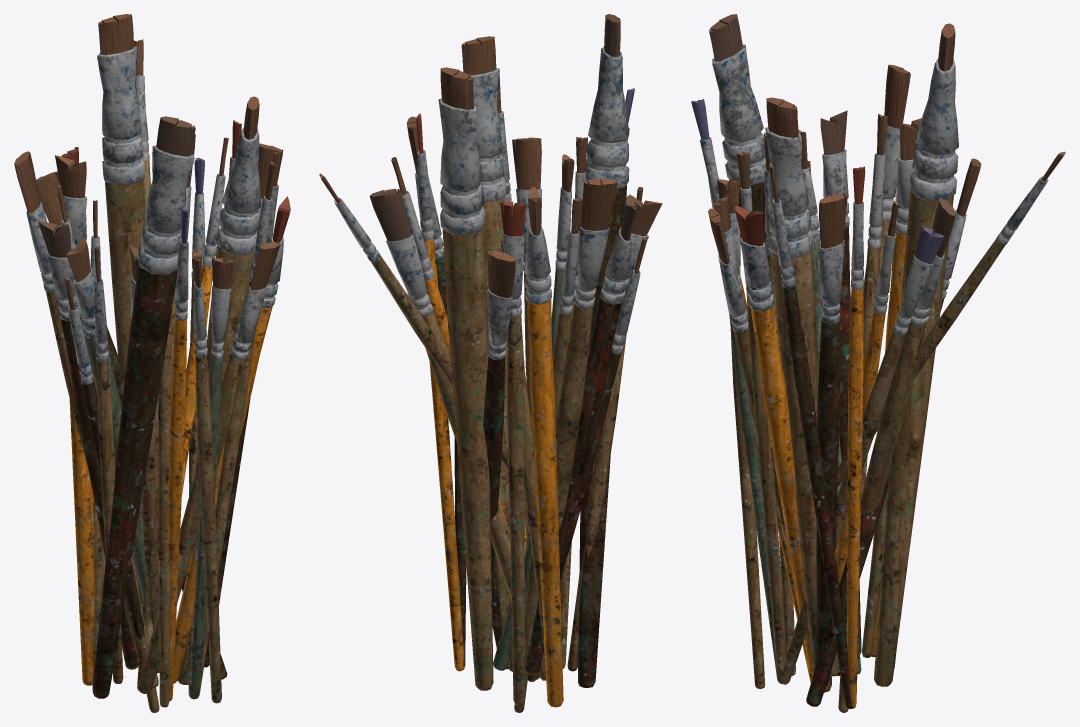
The model's file is brushes_valentina.glb.
The picture shows the model from 3 angles, left to right: view 1: azimuth 30°, elevation 25°; view 2: azimuth 150°, elevation 25°; view 3: azimuth 270°, elevation 25°; orthographic projection. The views are drawn at different scales.
Visible parts, largest first — view 1: brushes; view 2: brushes; view 3: brushes.
Part boxes in pixels (x1=…): brushes: x1=14, y1=14, x2=290, y2=712; brushes: x1=319, y1=14, x2=662, y2=712; brushes: x1=691, y1=14, x2=1065, y2=712.
Size of the model in its own units: 65.09 by 175 by 86.09.
Materials: 1 (1 with a texture image).
